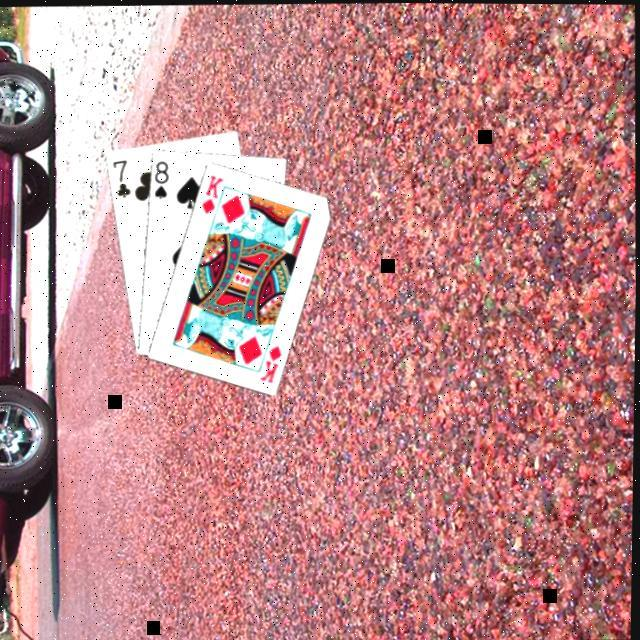7C: (107, 157, 133, 201)
8S: (149, 158, 171, 202)
KD: (197, 173, 227, 217), (255, 343, 285, 387)
